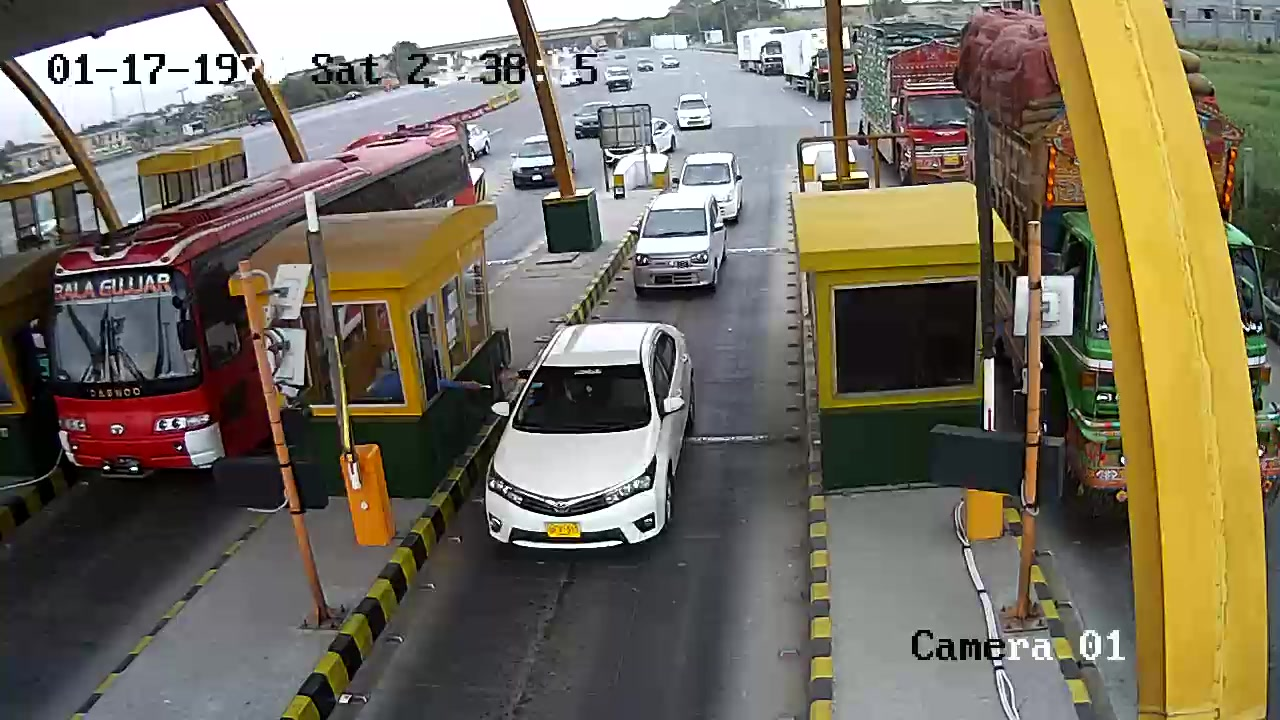F1: (482, 304, 708, 562), (632, 190, 734, 312)
